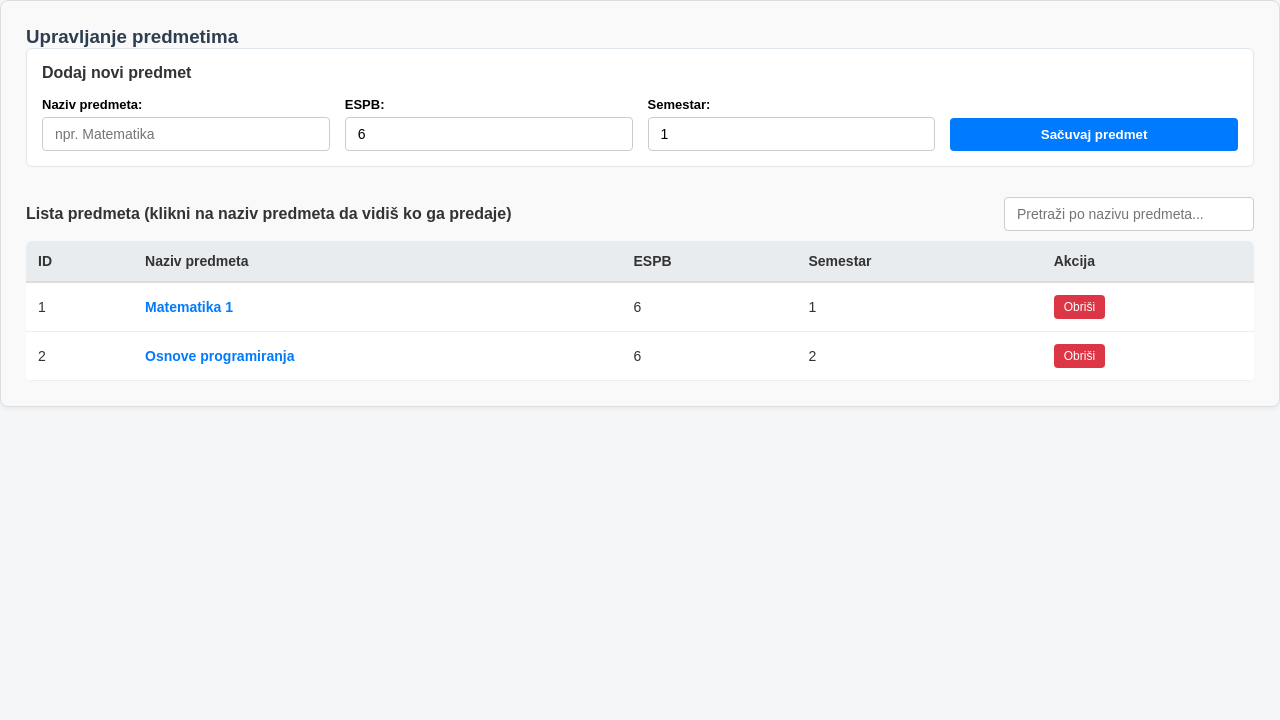
it: AdminPredmeti Component - Comprehensive Tests › prikazuje poruku da nema nastavnika i obračunava N/A vrednosti za formatiranje imena/zvanja
What coordinates should you click on to do the following:
click the text "Matematika 1"
I would click on:
 (189, 307)
Its box is [133, 282, 622, 332].
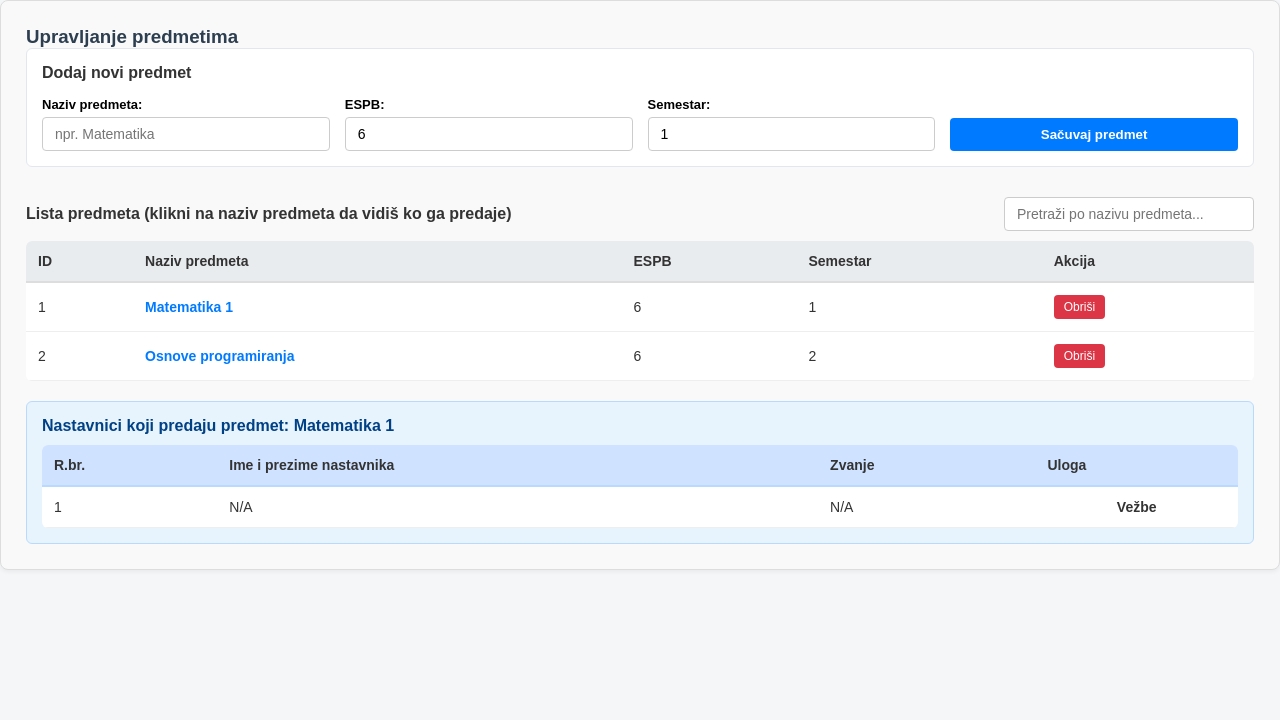
What coordinates should you click on to do the following:
click the text "Osnove programiranja"
I would click on:
 (220, 356)
Its box is [133, 332, 622, 380].
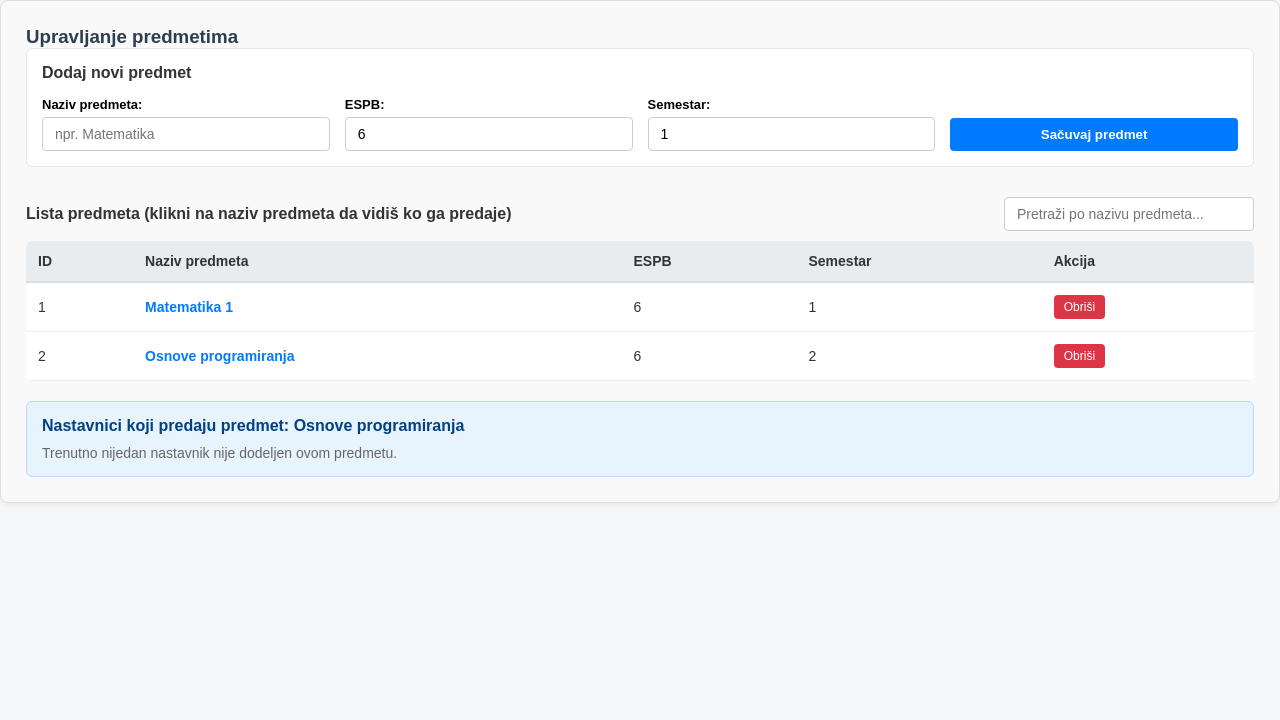
Result: the text "Trenutno nijedan nastavnik nije dodeljen ovom predmetu." is shown at [42, 445, 397, 461]
